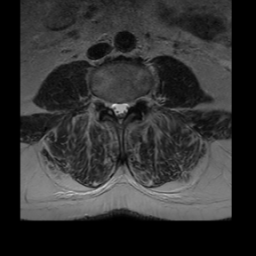CCS_normal: (117, 97, 123, 129)
LFS_normal: (130, 92, 138, 110)
LLS_normal: (123, 96, 130, 118)
RFS_normal: (103, 93, 110, 115)
RLS_stenosis: (110, 96, 117, 118)
